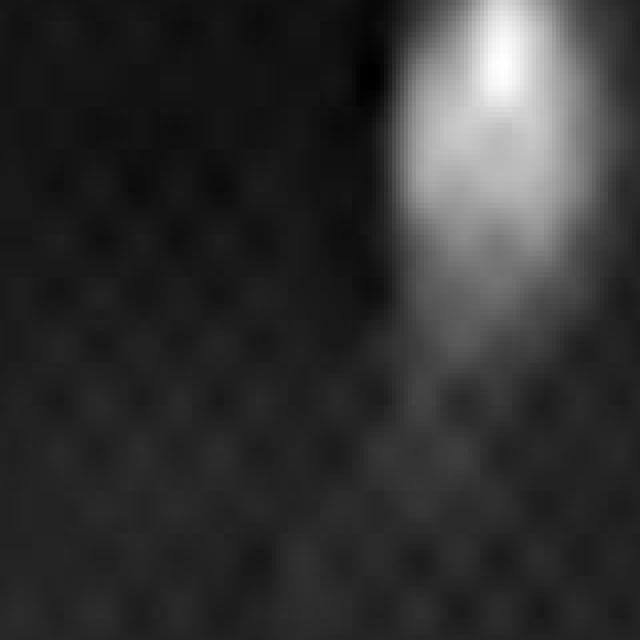person: (357, 1, 629, 385)
